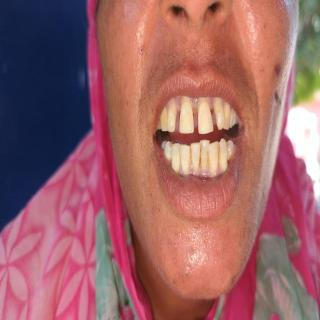maligned: (207, 142, 219, 177), (199, 140, 211, 174), (214, 98, 226, 132), (190, 140, 202, 174)
stains: (197, 145, 205, 171), (187, 148, 194, 172), (216, 143, 222, 167), (205, 150, 211, 170)
